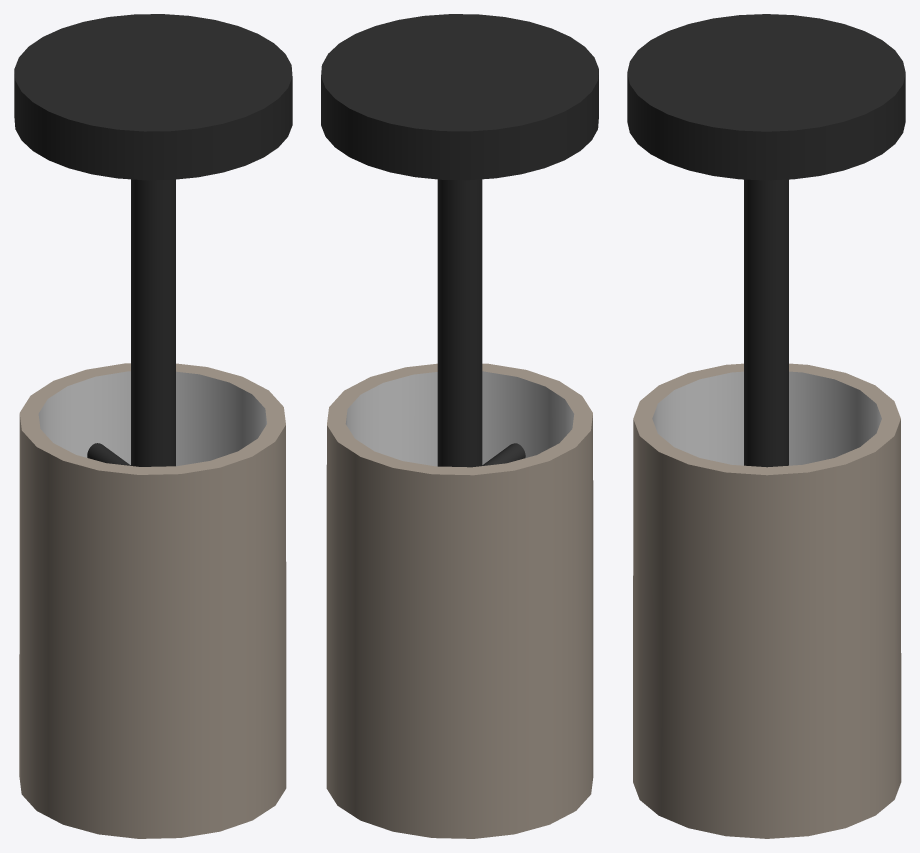
Rendered from Spot1_1.fbx.
3 renders of one model, left to right at view 1: azimuth 30°, elevation 25°; view 2: azimuth 150°, elevation 25°; view 3: azimuth 270°, elevation 25°, orthographic.
Parts seen in each view (by area): view 1: pPipe119, pCylinder779, pCylinder781; view 2: pPipe119, pCylinder779, pCylinder781; view 3: pPipe119, pCylinder779, pCylinder781.
Part boxes in pixels (<box>): pPipe119: <box>19,363,286,838</box>; pCylinder779: <box>14,14,292,180</box>; pCylinder781: <box>131,179,175,466</box>; pPipe119: <box>326,363,593,838</box>; pCylinder779: <box>321,14,598,180</box>; pCylinder781: <box>437,179,482,467</box>; pPipe119: <box>633,363,901,838</box>; pCylinder779: <box>627,14,905,180</box>; pCylinder781: <box>744,179,788,467</box>.
Size of the model in its own units: 5.13 by 14.43 by 5.13.
